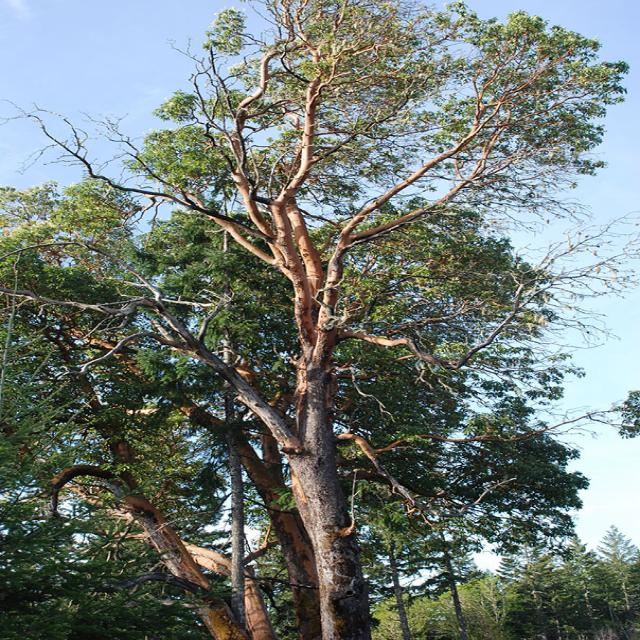Arbutus menziesii: (28, 3, 630, 640)
